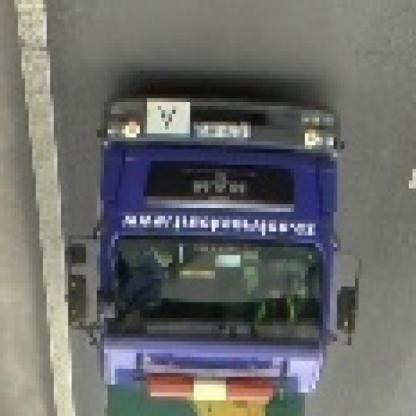truck: (69, 87, 363, 416)
